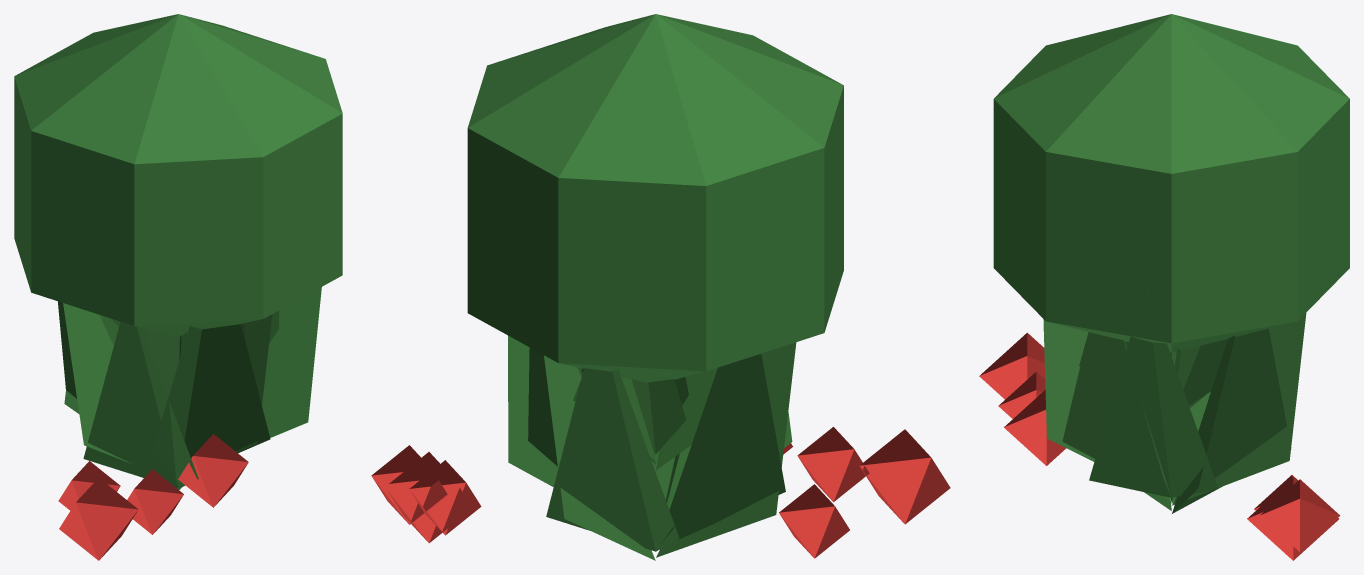
Rendered from crop_strawberry.glb.
The picture shows the model from 3 angles, left to right: view 1: azimuth 30°, elevation 25°; view 2: azimuth 150°, elevation 25°; view 3: azimuth 270°, elevation 25°; orthographic projection. The views are drawn at different scales.
Visible parts, largest first — view 1: crop_strawberry; view 2: crop_strawberry; view 3: crop_strawberry.
Boxes of the visible parts, x1=… form: crop_strawberry: x1=14, y1=14, x2=342, y2=560; crop_strawberry: x1=371, y1=14, x2=950, y2=560; crop_strawberry: x1=979, y1=14, x2=1349, y2=560.
Bounding box in the file's own units: 0.8233 × 1 × 0.6719.
